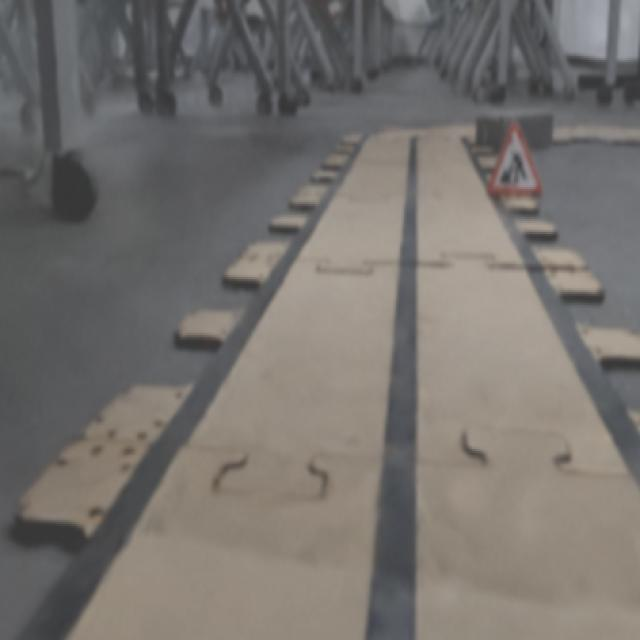WORKERS: (488, 124, 540, 195)
